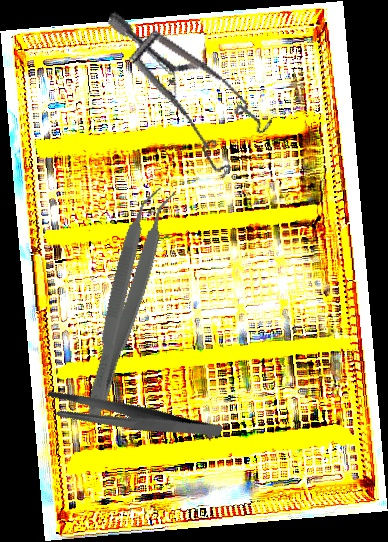Dressing Forceps: (41, 354, 224, 481)
Speculum: (73, 10, 290, 188)
Tissue Forceps: (77, 182, 180, 422)
